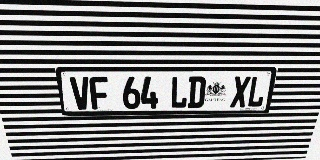4: (141, 76, 158, 109)
6: (122, 76, 140, 109)
D: (187, 76, 206, 108)
F: (89, 77, 109, 109)
L: (246, 76, 268, 107), (170, 76, 189, 108)
V: (69, 77, 91, 110)
X: (230, 76, 251, 107)
